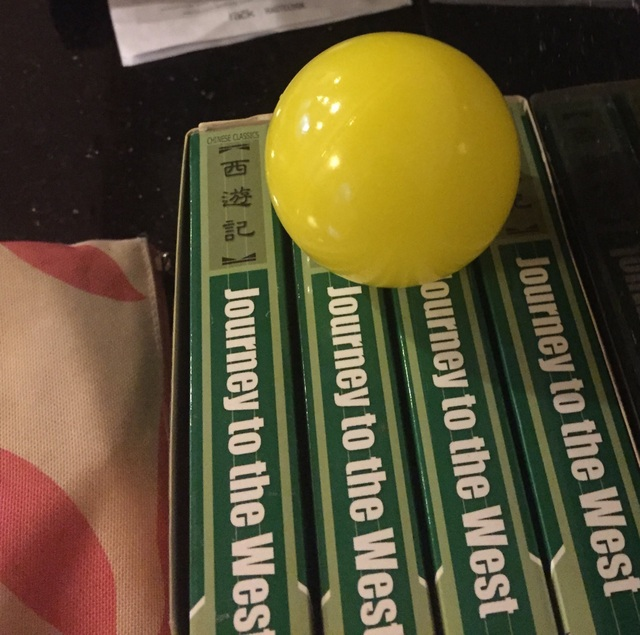ball: (263, 31, 519, 288)
